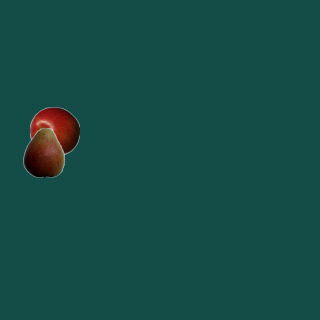Apple Braeburn: (29, 106, 79, 156)
Pear Forelle: (18, 127, 68, 177)
